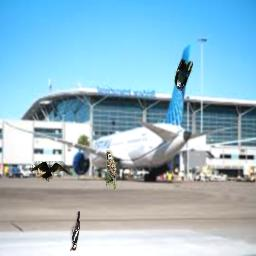Crow: (30, 161, 70, 182)
Sparrow: (106, 150, 117, 190)
Swallow: (174, 57, 193, 92)
Woodpecker: (70, 211, 80, 251)
